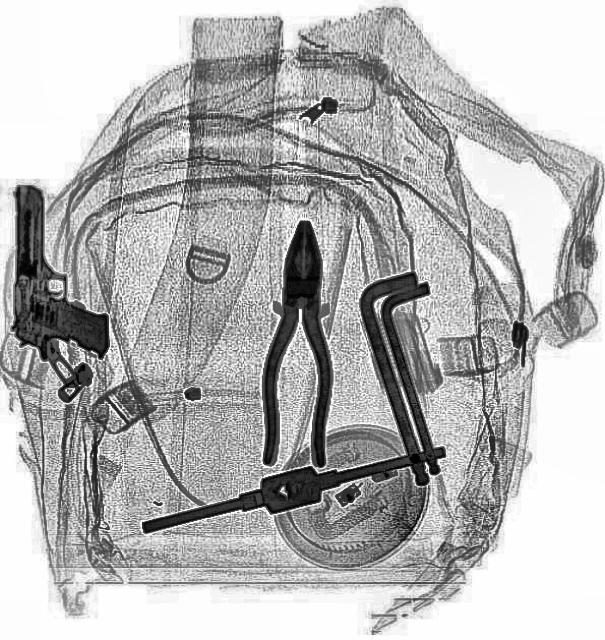Gun: (7, 182, 113, 362)
Pliers: (260, 218, 338, 466)
